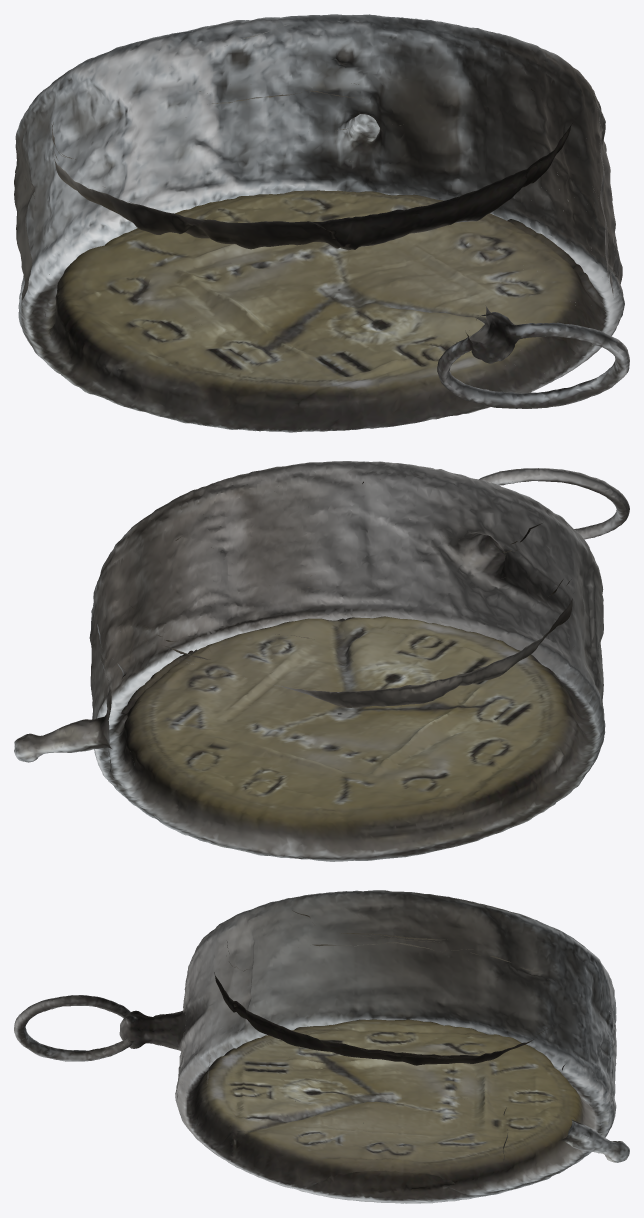
File: alarm.glb
The picture shows the model from 3 angles, top to bottom: view 1: azimuth 30°, elevation 25°; view 2: azimuth 150°, elevation 25°; view 3: azimuth 270°, elevation 25°; orthographic projection. The views are drawn at different scales.
Size of the model in its own units: 0.6961 by 0.2981 by 1.
